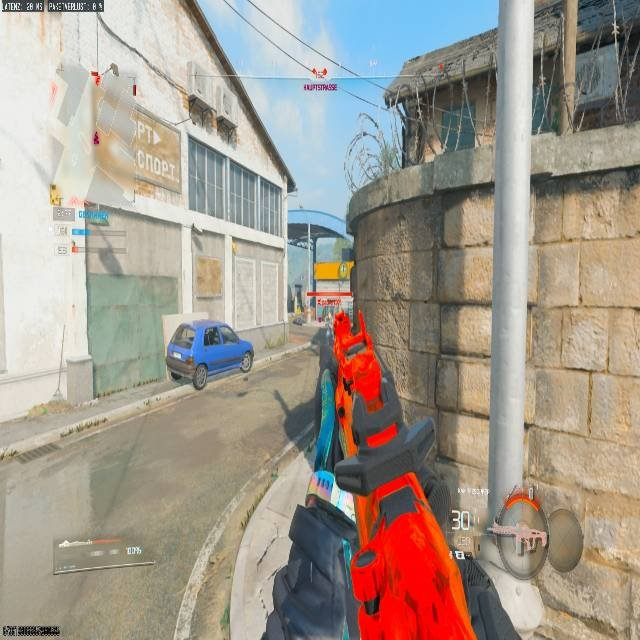player: (310, 305, 344, 373)
